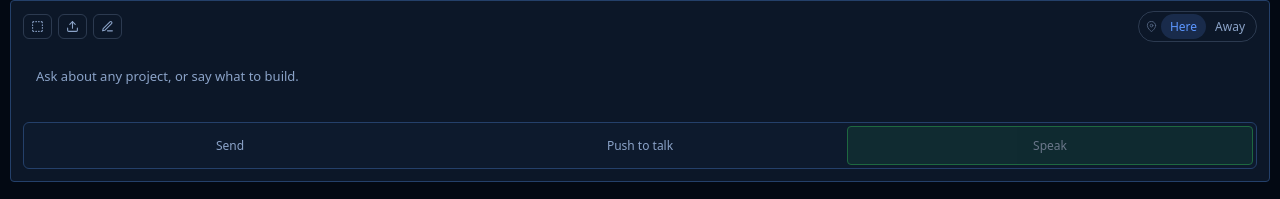
Test: ComposeBox — the rich placeholder replaced the empty one › gives the slot back to the draft the moment the user types
This screenshot has width=1280, height=199.
Expected: the text "Ask about any project, or say what to build." is shown, [36,67,299,85]
In the text box named "Message": [640, 85] box [23,56,1257,114], type "a"
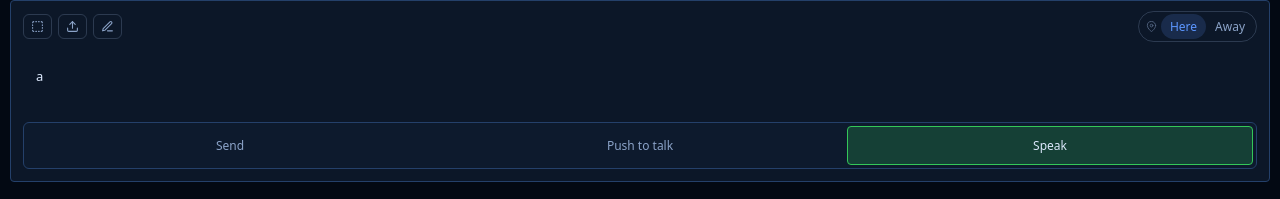
Expected: the text with test id "compose-placeholder" is gone
Clear the text box named "Message": [640, 85] box [23,56,1257,114]
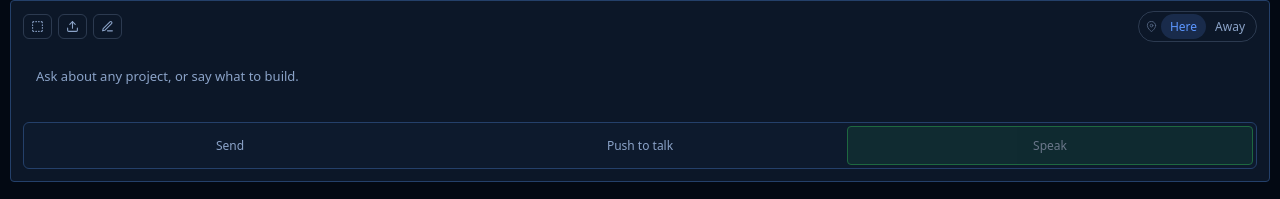
Expected: the text "Ask about any project, or say what to build." is shown, [36,67,299,85]
